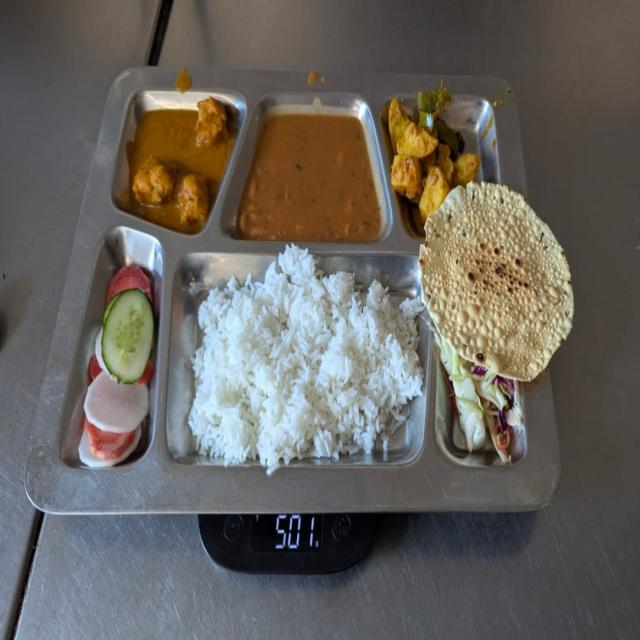Aloo Shimlamirch: (387, 95, 481, 181)
Dal: (239, 104, 383, 242)
Kofta: (123, 98, 230, 221)
Papad: (418, 177, 576, 382)
Salad: (77, 256, 157, 469)
White Rice: (185, 242, 421, 472)
